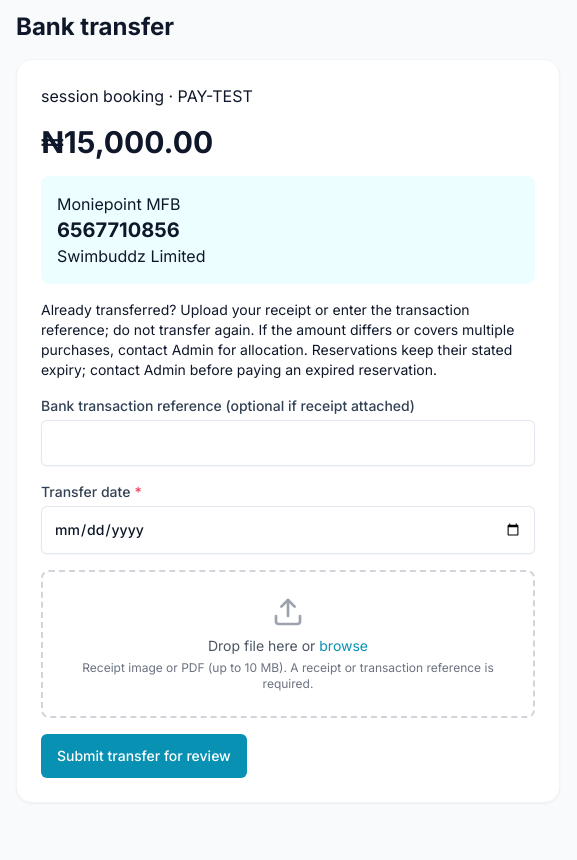
it: private bank transfer receipt › rejects submission without a receipt or transaction reference
Check: the text "6567710856" is shown, box [57, 218, 180, 242]
Type "2026-09-13" into the date field labelled "Transfer date *" at [288, 530], box [41, 506, 535, 554]
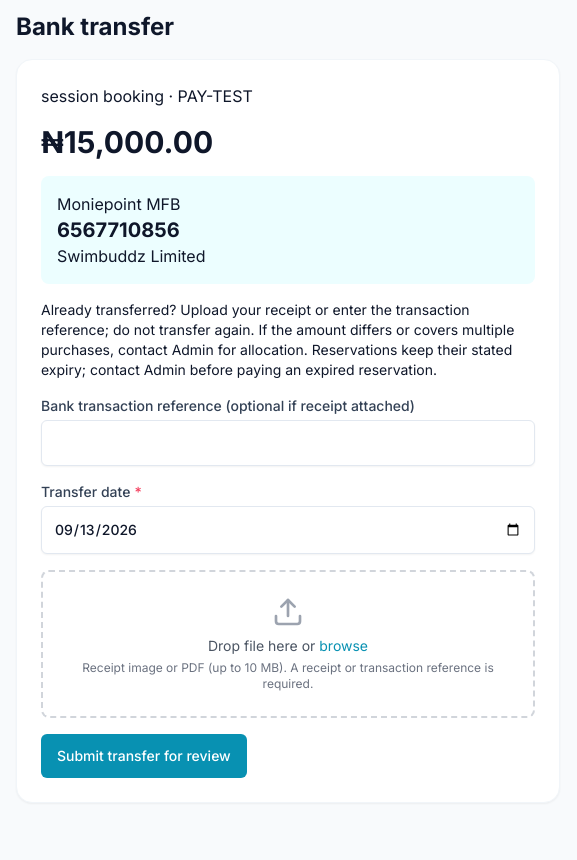
Click the button "Submit transfer for review" at [144, 756], box [41, 734, 247, 778]
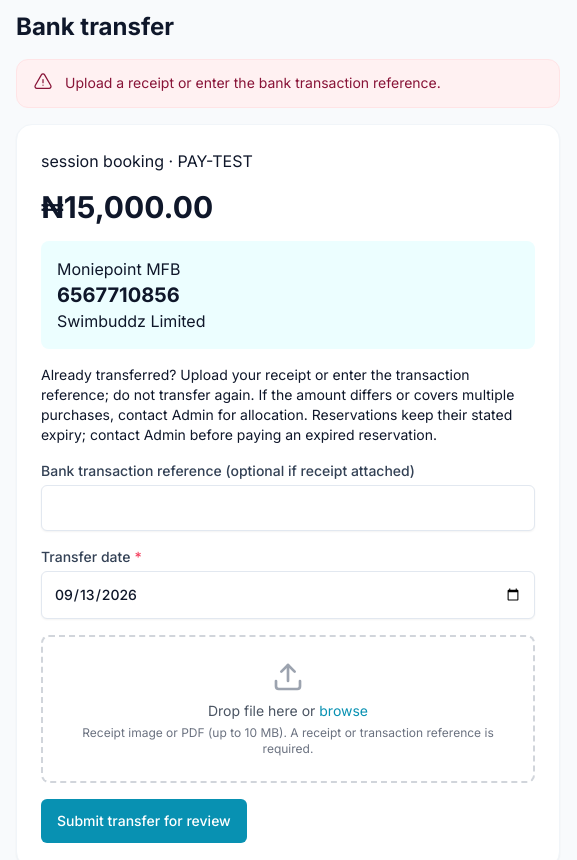
Check: the text "Upload a receipt or enter the bank transaction reference." is shown, box [65, 72, 441, 95]
